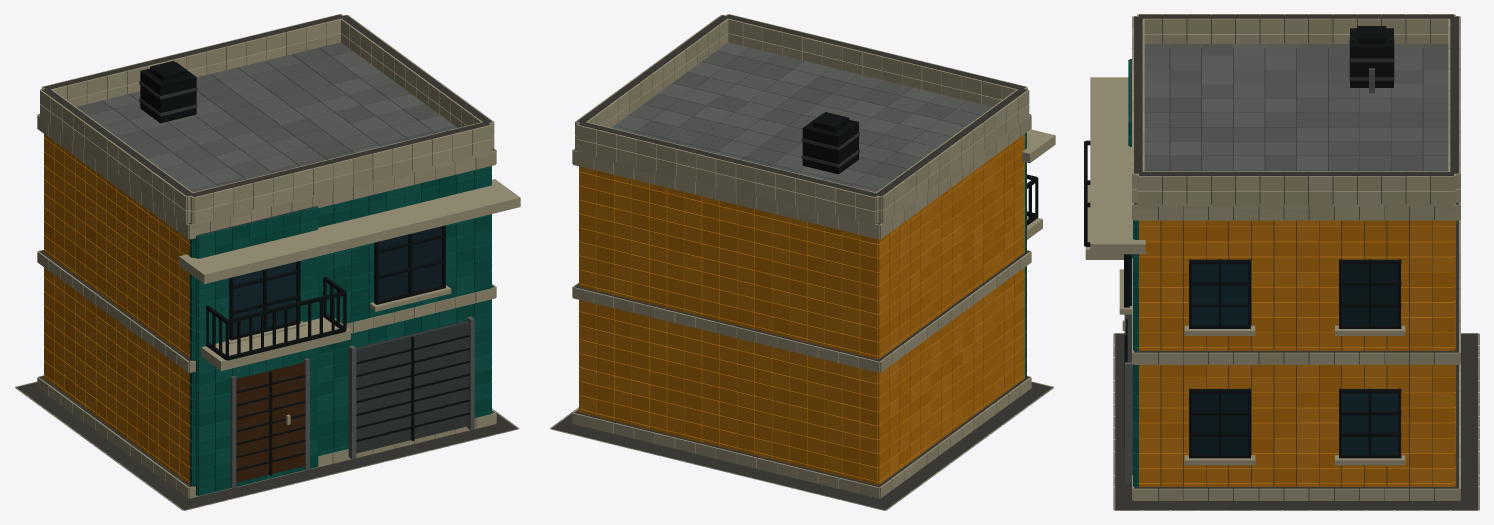
The model's file is SM_Mapa_049.fbx.
3 renders of one model, left to right at view 1: azimuth 30°, elevation 25°; view 2: azimuth 150°, elevation 25°; view 3: azimuth 270°, elevation 25°, orthographic. The views are drawn at different scales.
Parts seen in each view (by area): view 1: SM_Mapa_049; view 2: SM_Mapa_049; view 3: SM_Mapa_049.
Part boxes in pixels (x1,y1,x2,y2): SM_Mapa_049: (15, 14, 520, 510); SM_Mapa_049: (550, 14, 1055, 510); SM_Mapa_049: (1084, 14, 1479, 510).
Size of the model in its own units: 8 by 7.53 by 7.47.
